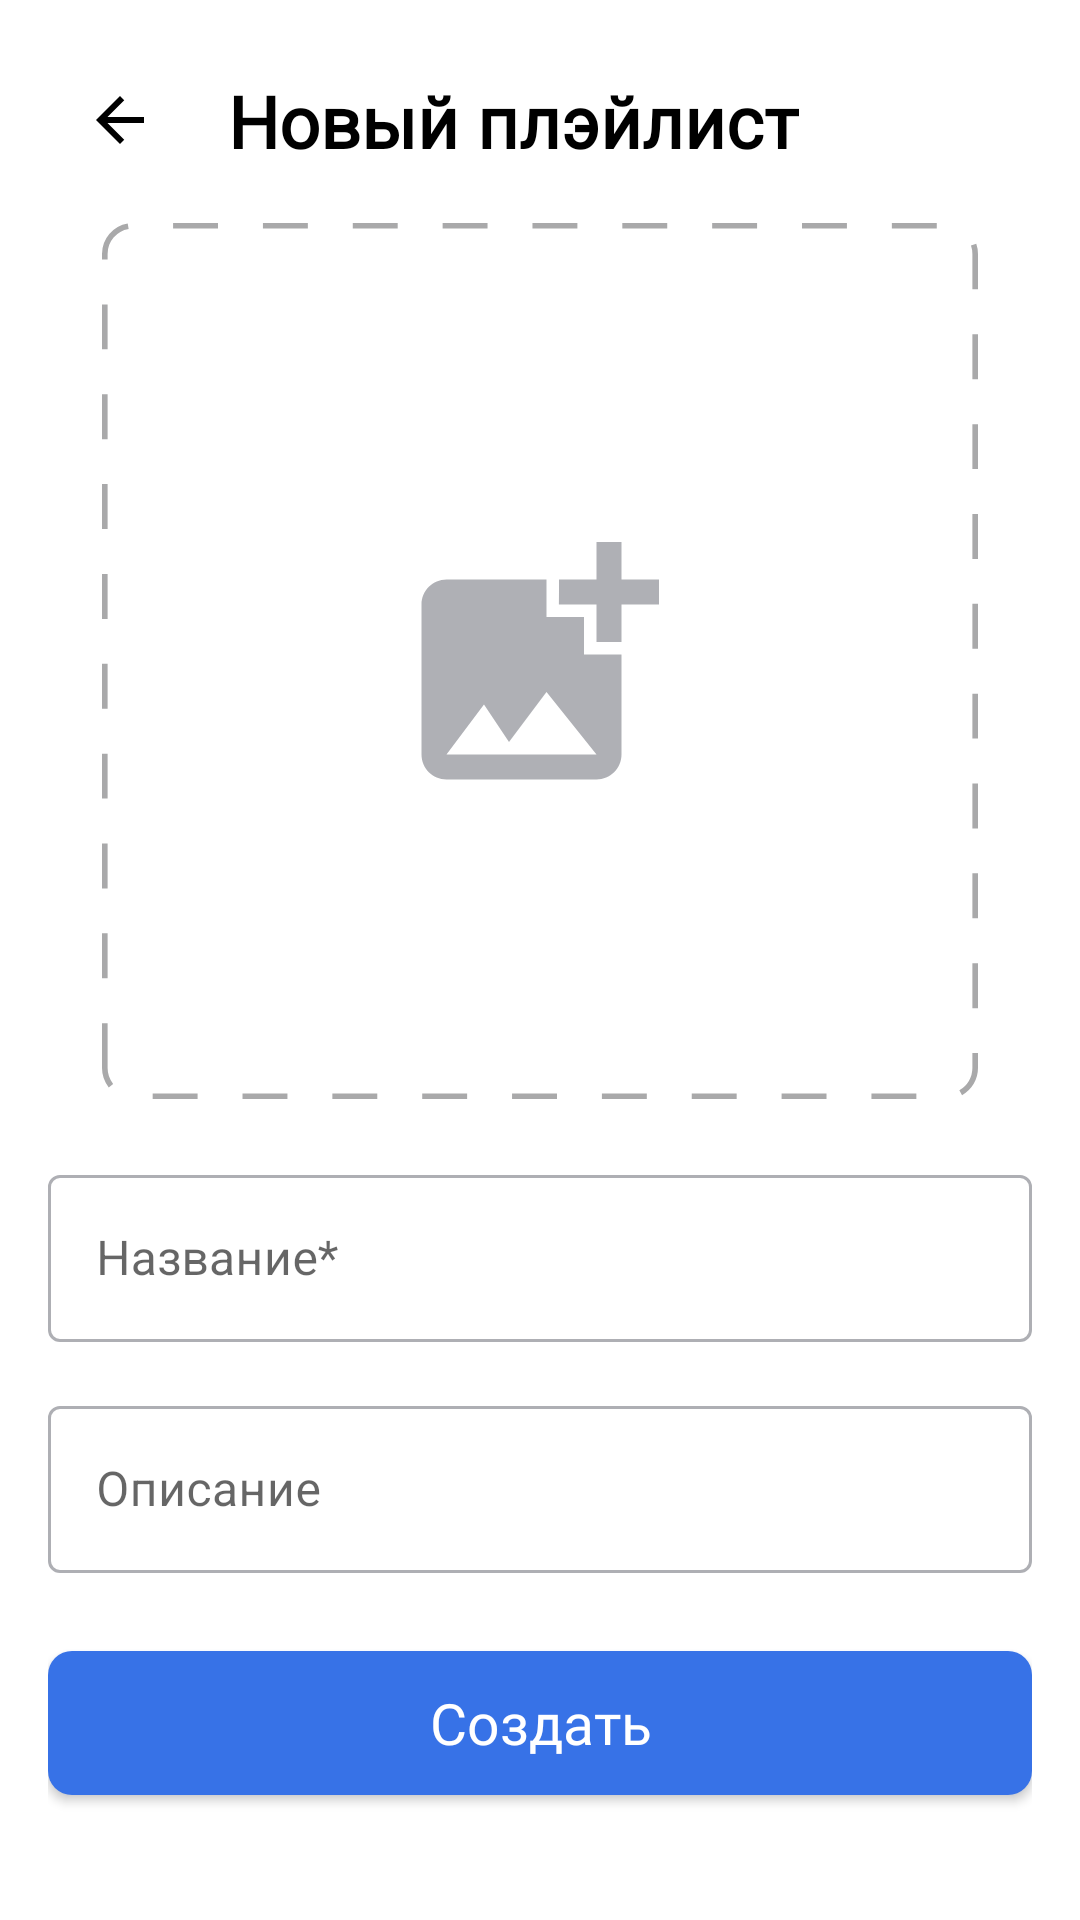

Locate icon controls on the screen. Image size 1080w x 1920h, boxes as (x1, y1, x2, y2).
back: (96, 96, 144, 144)
load: (421, 542, 659, 780)
